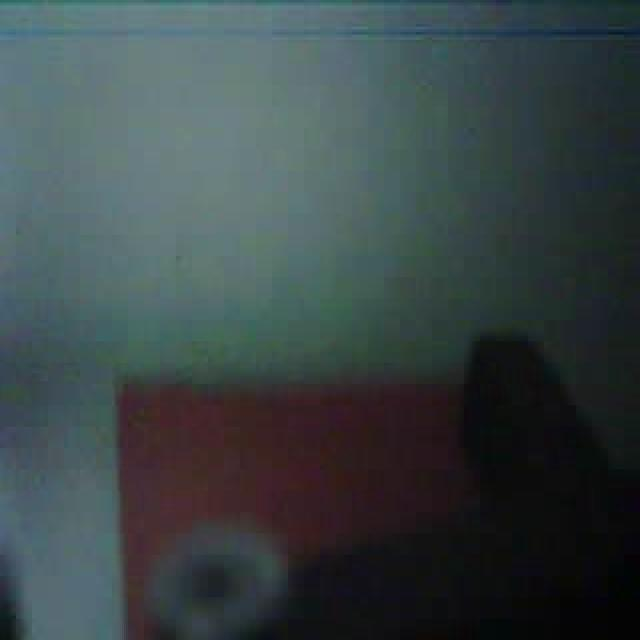red_box: (112, 365, 500, 640)
